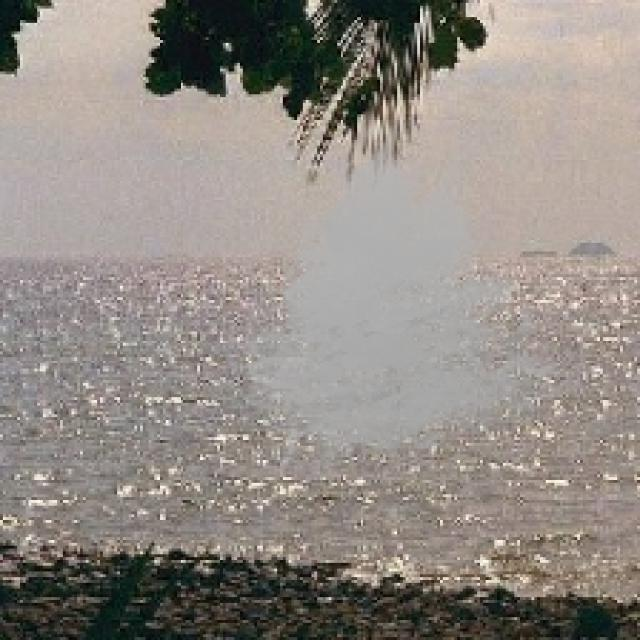Smoke: (211, 117, 600, 492)
